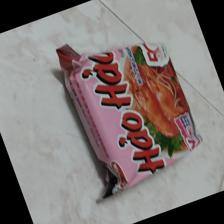Haohao: (58, 41, 204, 202)
